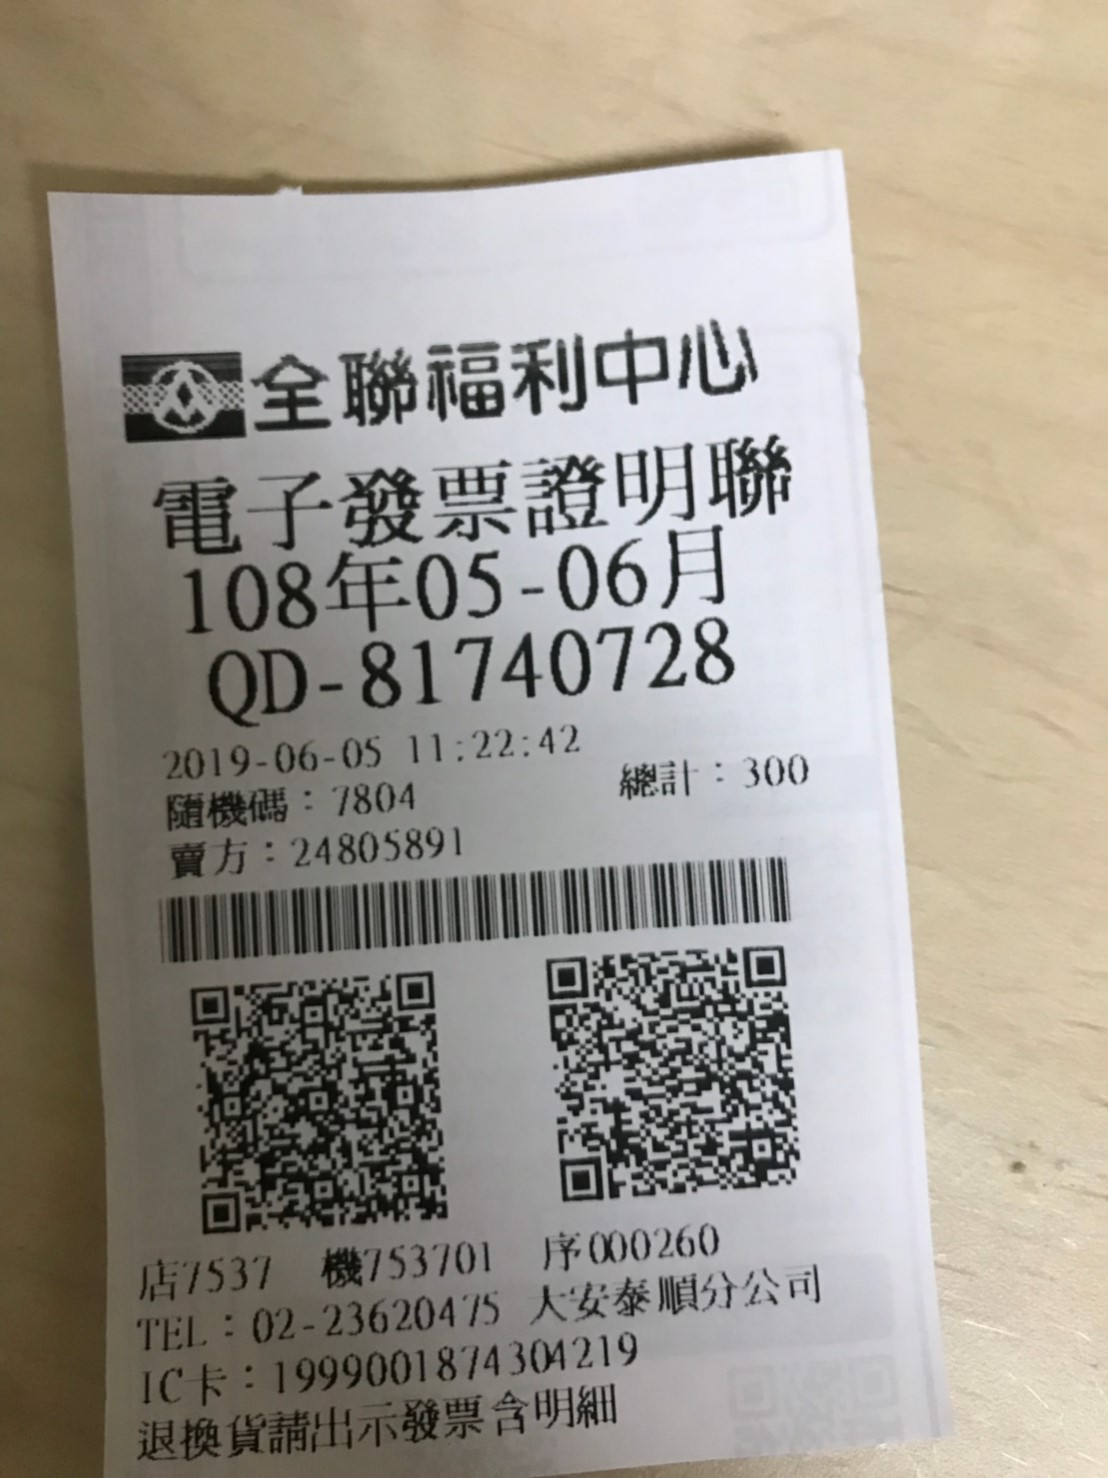Date_New: (178, 527, 736, 638)
Number_New: (358, 614, 736, 708)
